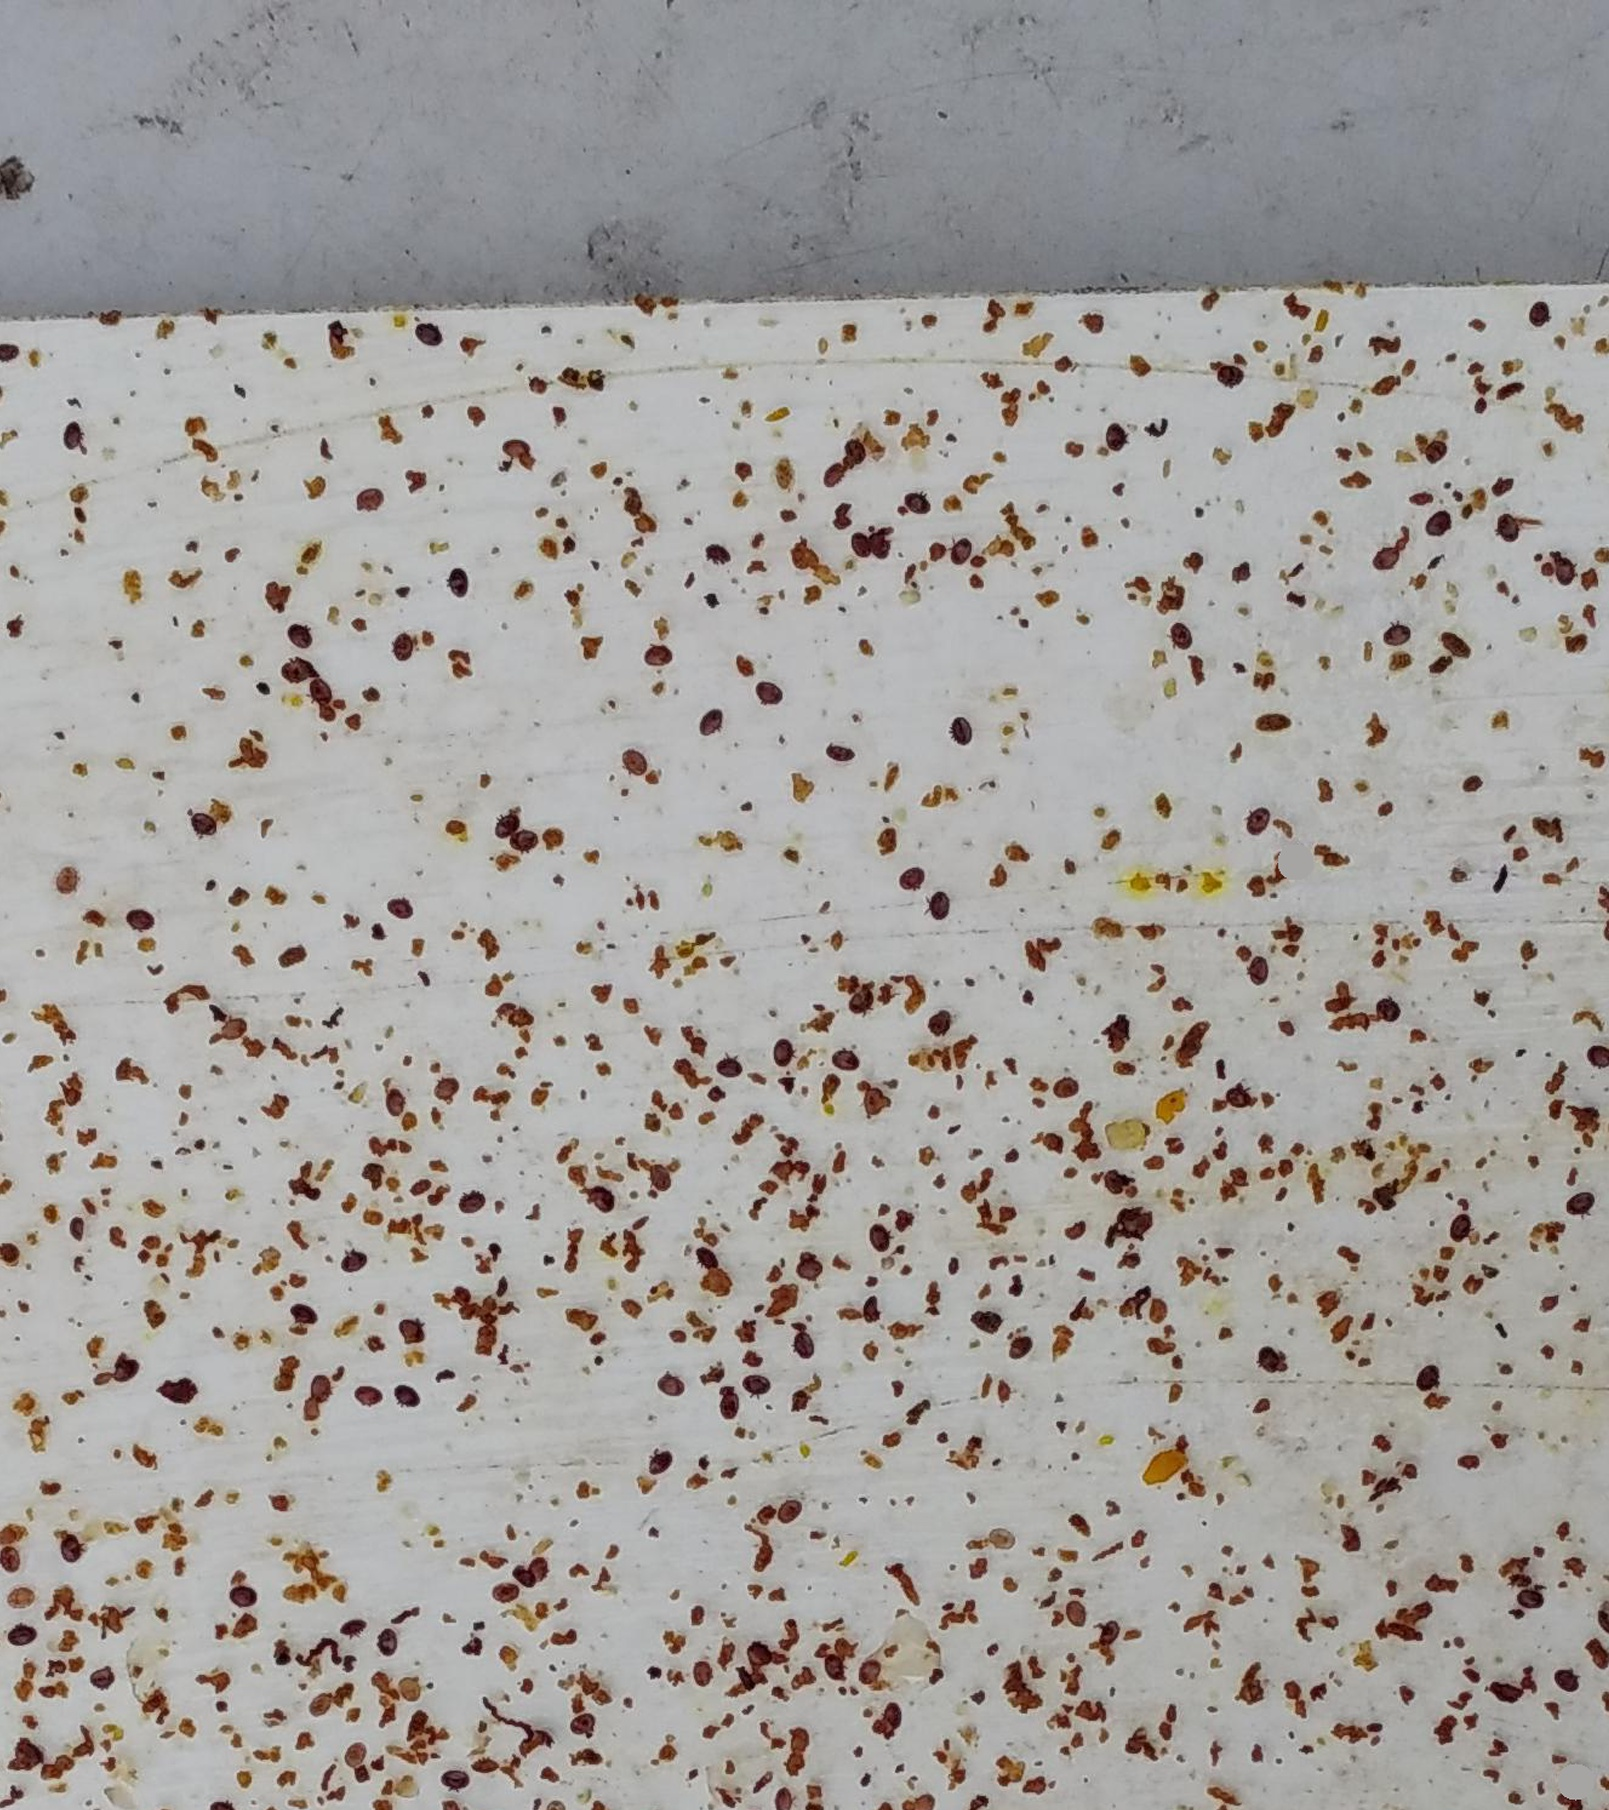Varroa: (1159, 615, 1201, 659), (182, 803, 224, 847), (2, 1613, 43, 1655), (407, 312, 449, 354), (637, 632, 679, 674), (495, 429, 537, 471), (832, 430, 874, 472), (940, 528, 982, 570), (1207, 356, 1249, 398), (1416, 503, 1458, 545), (1364, 536, 1406, 578), (213, 1007, 255, 1049), (373, 1081, 415, 1123), (1044, 1067, 1086, 1109), (1236, 799, 1278, 841), (283, 1293, 325, 1335), (391, 1310, 433, 1352), (450, 1182, 492, 1224), (683, 1237, 725, 1279), (638, 1439, 680, 1481), (783, 1324, 825, 1366), (999, 1327, 1041, 1369), (1090, 1161, 1132, 1203), (1247, 1339, 1289, 1381), (300, 1686, 342, 1728), (485, 1572, 526, 1614), (433, 1759, 475, 1801), (767, 1490, 809, 1532), (846, 1652, 888, 1693), (870, 1693, 912, 1735), (520, 1549, 564, 1589), (50, 1527, 90, 1569), (54, 413, 95, 455), (300, 673, 342, 713), (273, 649, 315, 690), (349, 479, 390, 520), (436, 562, 478, 603), (691, 701, 732, 743), (747, 673, 787, 715), (696, 534, 738, 575), (814, 455, 856, 496), (839, 527, 881, 567), (860, 527, 902, 567), (896, 482, 937, 524), (1095, 416, 1135, 458), (1517, 294, 1559, 334), (1374, 612, 1416, 653), (1415, 430, 1455, 472), (1544, 552, 1586, 592), (377, 887, 419, 928), (47, 858, 87, 900), (615, 743, 655, 785), (708, 1044, 749, 1086), (763, 1032, 804, 1072), (426, 1069, 467, 1109), (818, 735, 860, 775), (891, 858, 932, 900), (918, 886, 958, 928), (842, 983, 884, 1024), (825, 1038, 867, 1078), (1365, 990, 1406, 1032), (1238, 949, 1280, 990), (1218, 1075, 1260, 1116), (106, 1350, 148, 1391), (332, 1241, 374, 1282), (346, 1375, 388, 1415), (387, 1377, 427, 1418), (298, 1367, 340, 1408), (582, 1176, 623, 1218), (736, 1366, 777, 1408), (708, 1384, 749, 1426), (651, 1366, 691, 1408), (641, 1156, 683, 1196), (860, 1218, 902, 1258), (851, 1286, 891, 1328), (1407, 1358, 1449, 1398), (1559, 1184, 1601, 1224), (222, 1575, 262, 1617), (370, 1620, 410, 1662), (331, 1608, 373, 1648), (81, 1656, 121, 1698), (388, 1670, 430, 1711), (505, 1557, 547, 1597), (683, 1653, 725, 1693), (738, 1634, 778, 1676), (561, 1704, 603, 1745), (1055, 1592, 1096, 1633), (1087, 1614, 1129, 1655), (1510, 1575, 1550, 1617), (1548, 1658, 1589, 1700), (280, 615, 320, 656), (382, 626, 422, 667), (1486, 506, 1527, 547), (120, 898, 160, 938), (486, 803, 526, 844), (503, 820, 544, 861), (941, 710, 982, 750), (919, 1002, 960, 1042), (789, 1249, 829, 1290), (1440, 1207, 1480, 1248), (335, 1735, 376, 1776), (466, 1746, 506, 1787), (815, 1648, 856, 1689)
